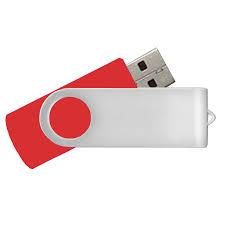Flash-drive: (7, 25, 222, 200)
